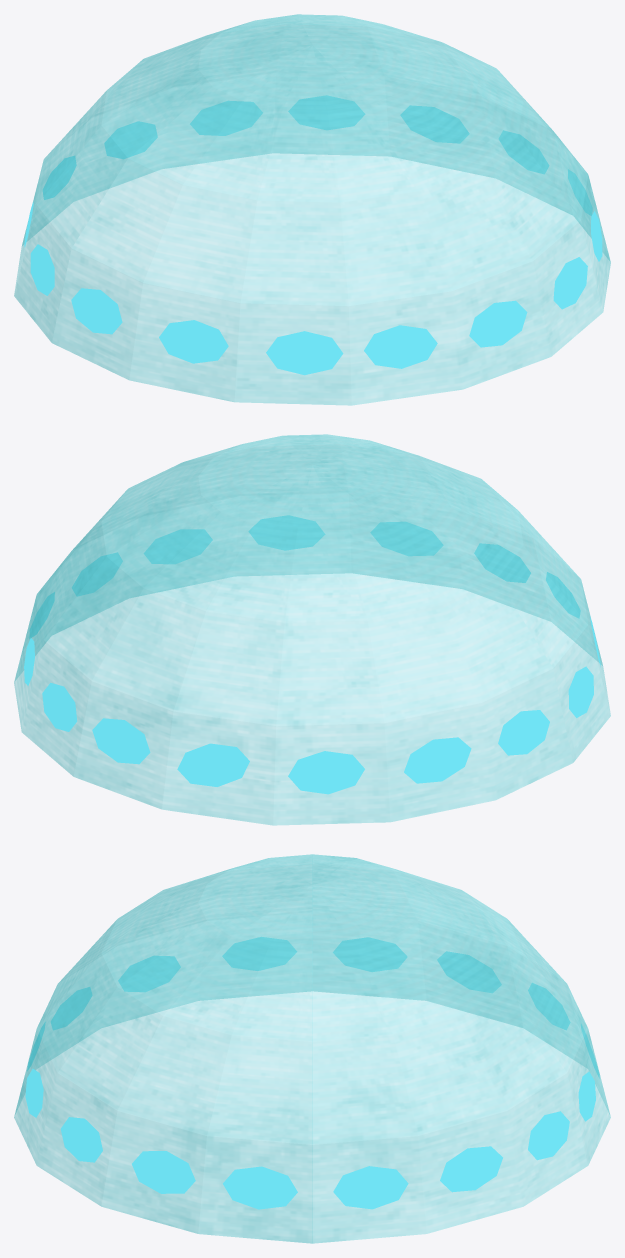
File: Top_dome02.glb
3 renders of one model, top to bottom at view 1: azimuth 30°, elevation 25°; view 2: azimuth 150°, elevation 25°; view 3: azimuth 270°, elevation 25°, orthographic.
Parts seen in each view (by area): view 1: Dome_Light_5.006; view 2: Dome_Light_5.006; view 3: Dome_Light_5.006.
Boxes of the visible parts, <box> form: Dome_Light_5.006: <box>14,14,610,405</box>; Dome_Light_5.006: <box>14,434,610,825</box>; Dome_Light_5.006: <box>14,854,610,1243</box>.
Bounding box in the file's own units: 8.14 × 3.5 × 8.14.
Materials: 2 (1 with a texture image).
